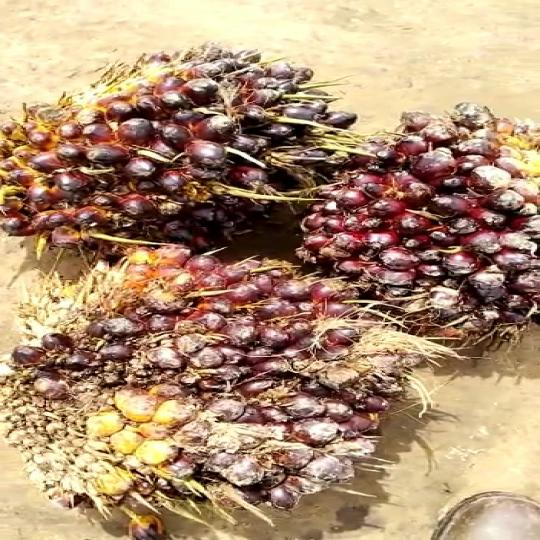kurang masak: (3, 249, 436, 530), (0, 42, 354, 255), (291, 100, 540, 339)
